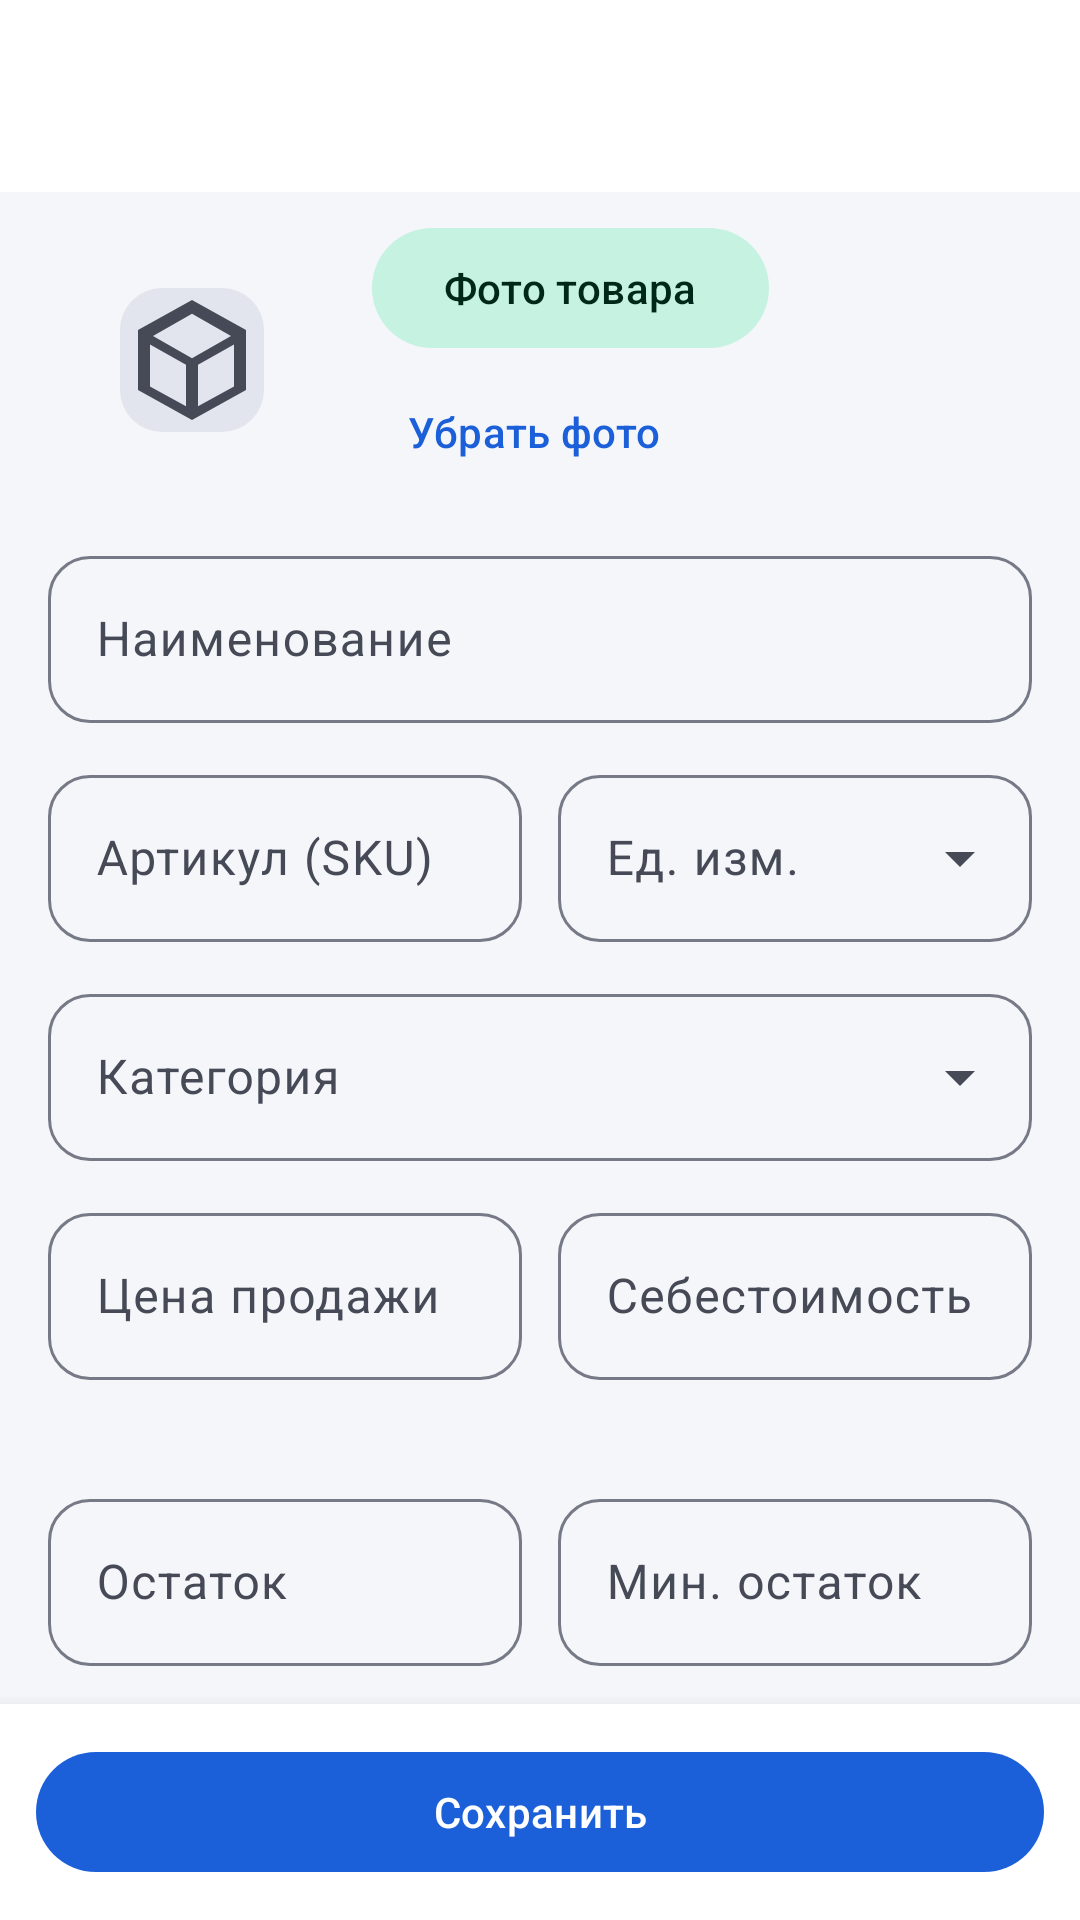

Named icons in this screenshot (1080px×1920px) and their centers, (x=x, y=y):
Карточка товара: (x=192, y=360)
